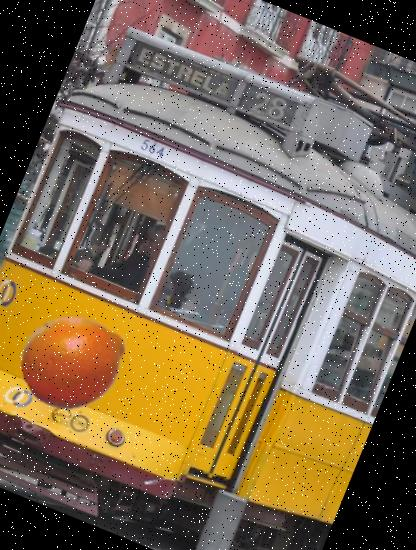Tangelo: (5, 293, 142, 431)
